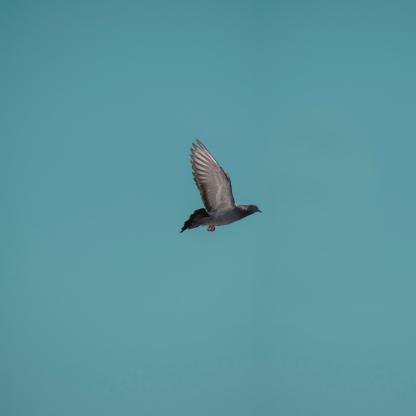bird: (180, 138, 263, 234)
